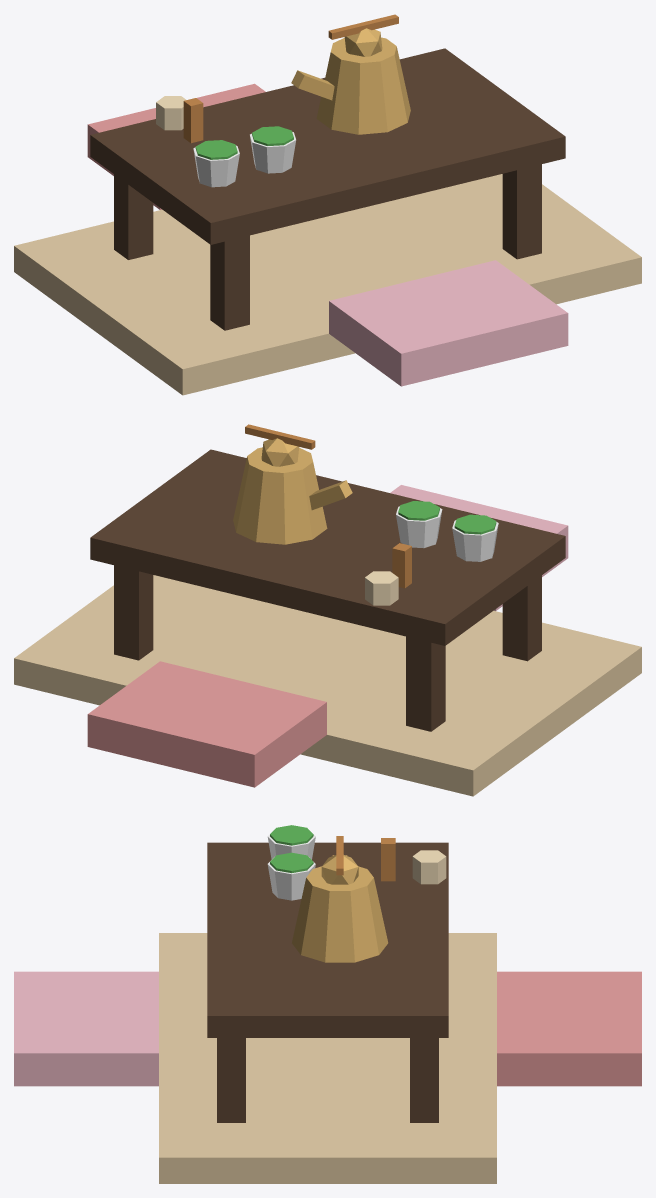
The model's file is CatCafe_Decor_TeaSet.glb.
3 renders of one model, top to bottom at view 1: azimuth 30°, elevation 25°; view 2: azimuth 150°, elevation 25°; view 3: azimuth 270°, elevation 25°, orthographic.
Parts seen in each view (by area): view 1: CatCafe_Decor_TeaSet; view 2: CatCafe_Decor_TeaSet; view 3: CatCafe_Decor_TeaSet.
Part boxes in pixels (x1=…): CatCafe_Decor_TeaSet: x1=14, y1=14, x2=641, y2=395; CatCafe_Decor_TeaSet: x1=14, y1=424, x2=641, y2=796; CatCafe_Decor_TeaSet: x1=14, y1=825, x2=641, y2=1183.
Bounding box in the file's own units: 2.2 × 1.1 × 2.6.
1 material, 1 textured.
